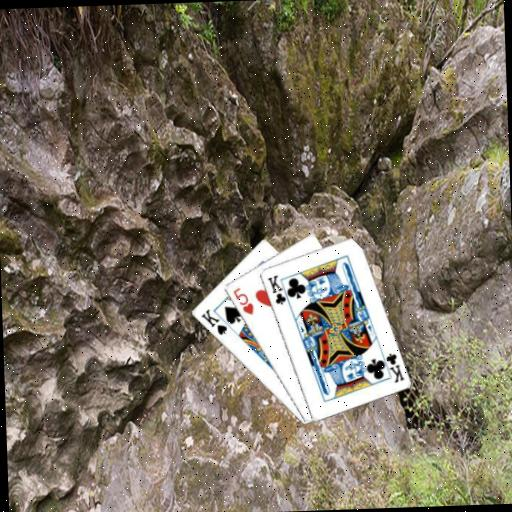5H: (230, 283, 255, 316)
KC: (264, 271, 292, 307), (377, 348, 405, 384)
KS: (196, 305, 228, 338)
